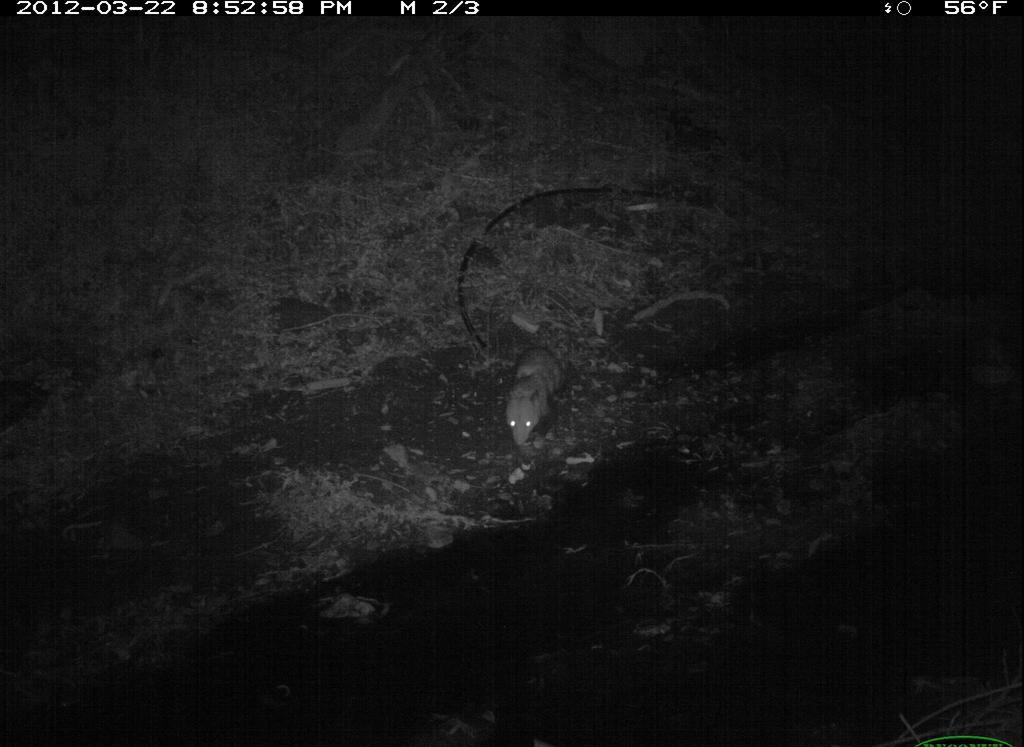opossum: (488, 329, 577, 460)
